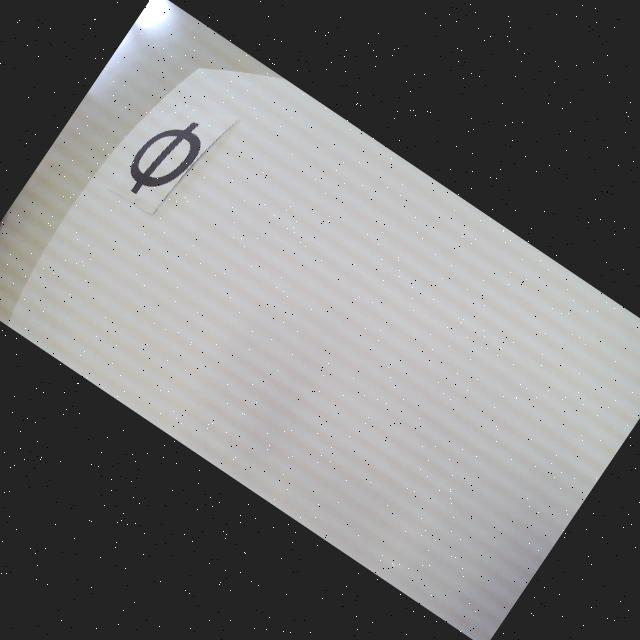PHI: (118, 104, 213, 211)
